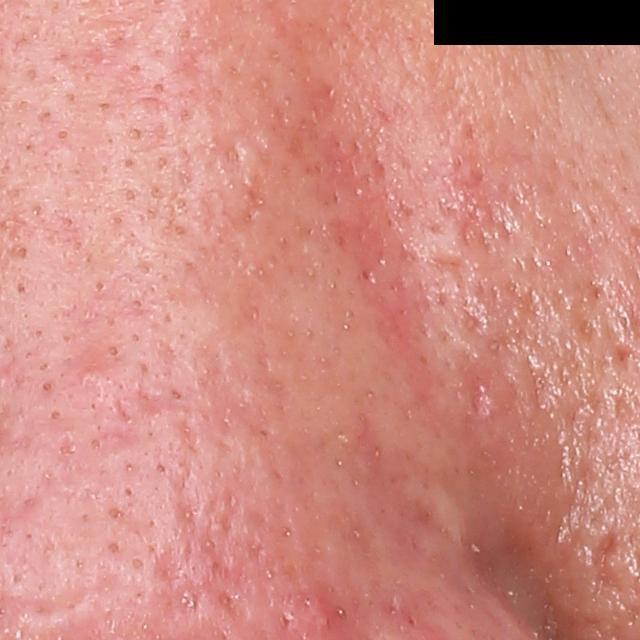atrophic_scar: (457, 357, 501, 425), (588, 527, 623, 598), (167, 468, 199, 541)
comedo: (12, 243, 30, 263), (47, 407, 66, 425), (126, 125, 145, 142), (85, 435, 102, 452), (107, 506, 125, 522), (54, 127, 72, 143), (105, 342, 121, 359), (38, 380, 55, 396), (130, 554, 147, 570), (27, 202, 43, 219), (121, 187, 136, 205), (105, 540, 121, 555), (122, 485, 136, 500), (153, 80, 167, 95), (16, 280, 28, 297), (60, 332, 72, 346), (155, 155, 167, 169), (155, 462, 166, 475), (129, 332, 141, 343)
